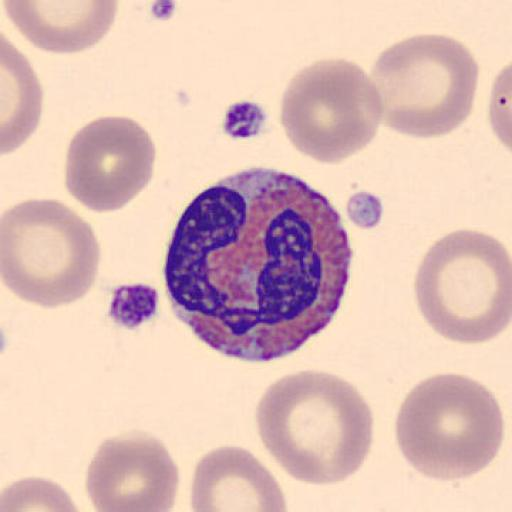Platelet: (104, 280, 162, 332), (220, 95, 271, 142)
RBC: (253, 368, 376, 488), (394, 371, 506, 484), (368, 32, 480, 140), (412, 227, 511, 346), (279, 56, 385, 167), (2, 196, 102, 310), (63, 114, 157, 215), (85, 427, 181, 512), (188, 443, 288, 512), (4, 0, 120, 55), (1, 36, 43, 156), (2, 475, 86, 512), (488, 57, 512, 157)
WBC: (163, 166, 353, 362)
